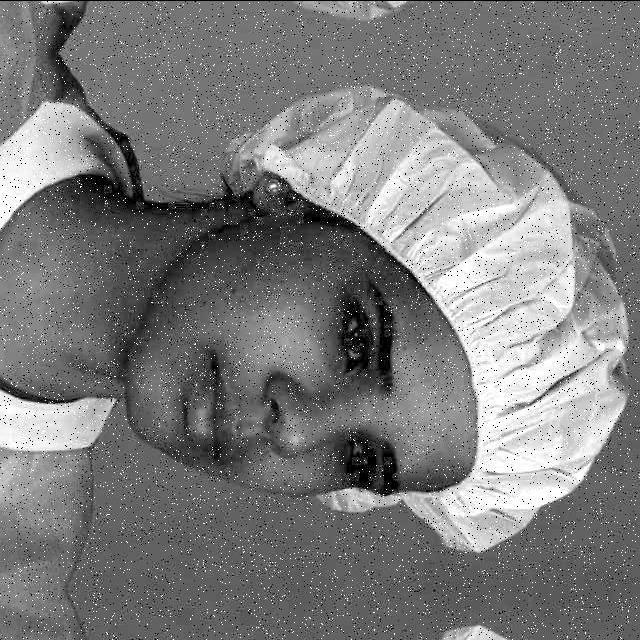gloves: (386, 174, 628, 559)
no_hairnet: (177, 322, 297, 500)
